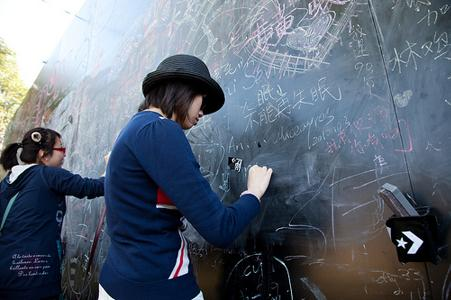person: (95, 55, 275, 300)
